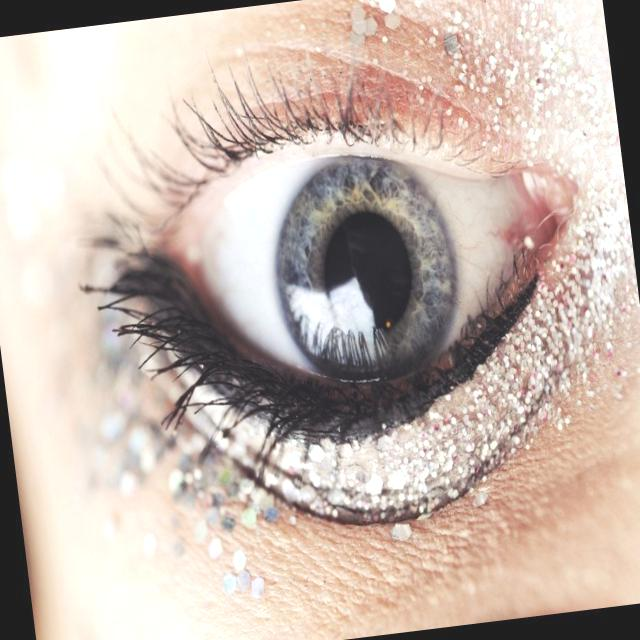Normal: (78, 74, 589, 476)
